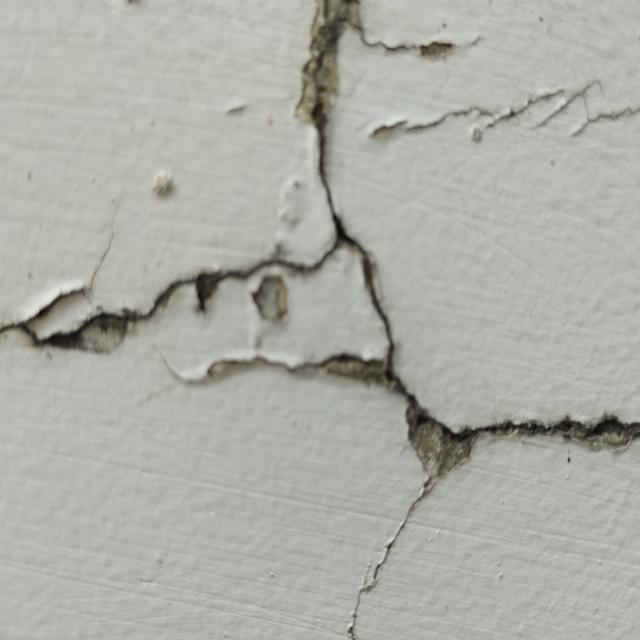branched cracks: (409, 83, 591, 141), (206, 342, 372, 372), (73, 213, 116, 295)
